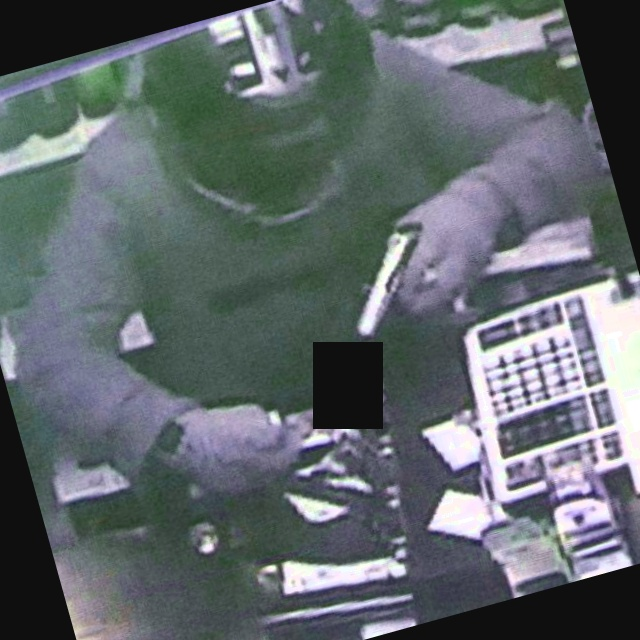gun: (315, 206, 461, 347)
